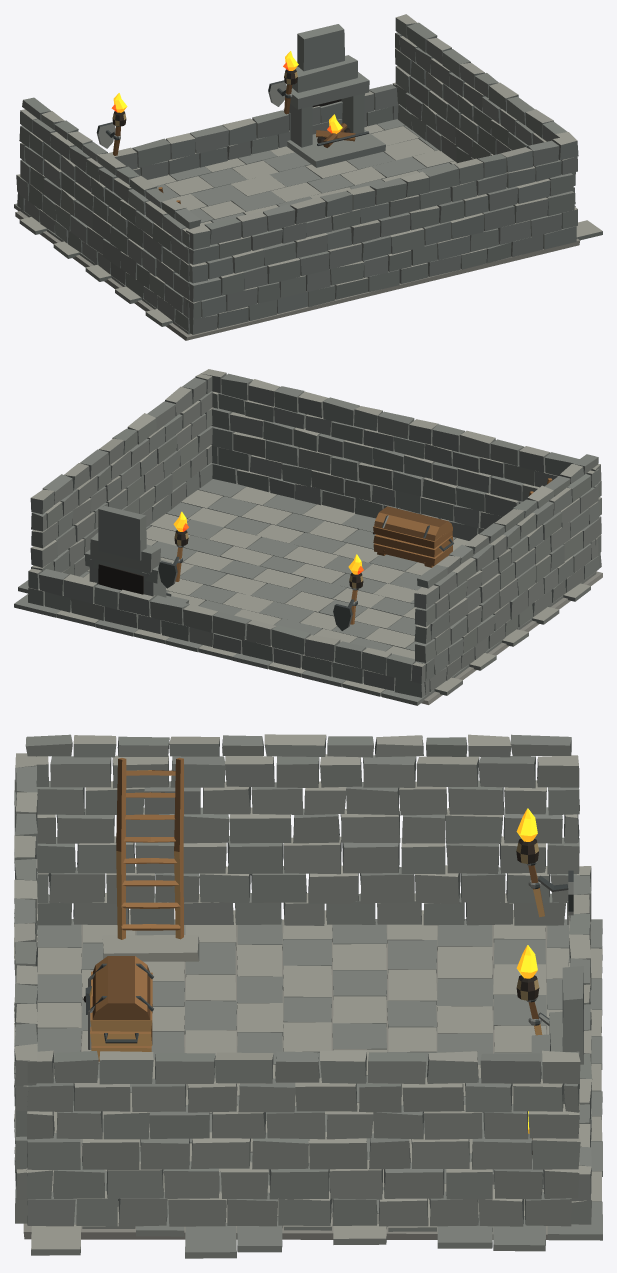
The model's file is holm_survival_workyard_cellar_v2.glb.
3 renders of one model, top to bottom at view 1: azimuth 30°, elevation 25°; view 2: azimuth 150°, elevation 25°; view 3: azimuth 270°, elevation 25°, orthographic. The views are drawn at different scales.
Visible parts, largest first — view 1: CellarDesignedStatic, CellarHearthFixture, CellarWallTorchFixture_0, CellarWallTorchFixture_1; view 2: CellarDesignedStatic, CellarHearthFixture, CellarReserveChestMesh, CellarWallTorchFixture_0, CellarWallTorchFixture_1; view 3: CellarDesignedStatic, CellarExitLadderMesh, CellarReserveChestMesh, CellarHearthFixture, CellarWallTorchFixture_0, CellarWallTorchFixture_1.
Boxes of the visible parts, x1,y1,x2,y2 form: CellarDesignedStatic: (14, 14, 602, 340); CellarHearthFixture: (284, 24, 385, 167); CellarWallTorchFixture_0: (96, 111, 126, 155); CellarWallTorchFixture_1: (268, 69, 297, 114); CellarDesignedStatic: (14, 369, 602, 705); CellarHearthFixture: (84, 506, 188, 603); CellarReserveChestMesh: (373, 506, 453, 567); CellarWallTorchFixture_0: (333, 573, 363, 630); CellarWallTorchFixture_1: (158, 530, 188, 588); CellarDesignedStatic: (14, 734, 602, 1258); CellarExitLadderMesh: (102, 757, 199, 961); CellarReserveChestMesh: (83, 956, 153, 1061); CellarHearthFixture: (482, 966, 583, 1184); CellarWallTorchFixture_0: (516, 838, 573, 917); CellarWallTorchFixture_1: (516, 975, 549, 1035).
Size of the model in its own units: 13.16 by 3.49 by 9.56.
